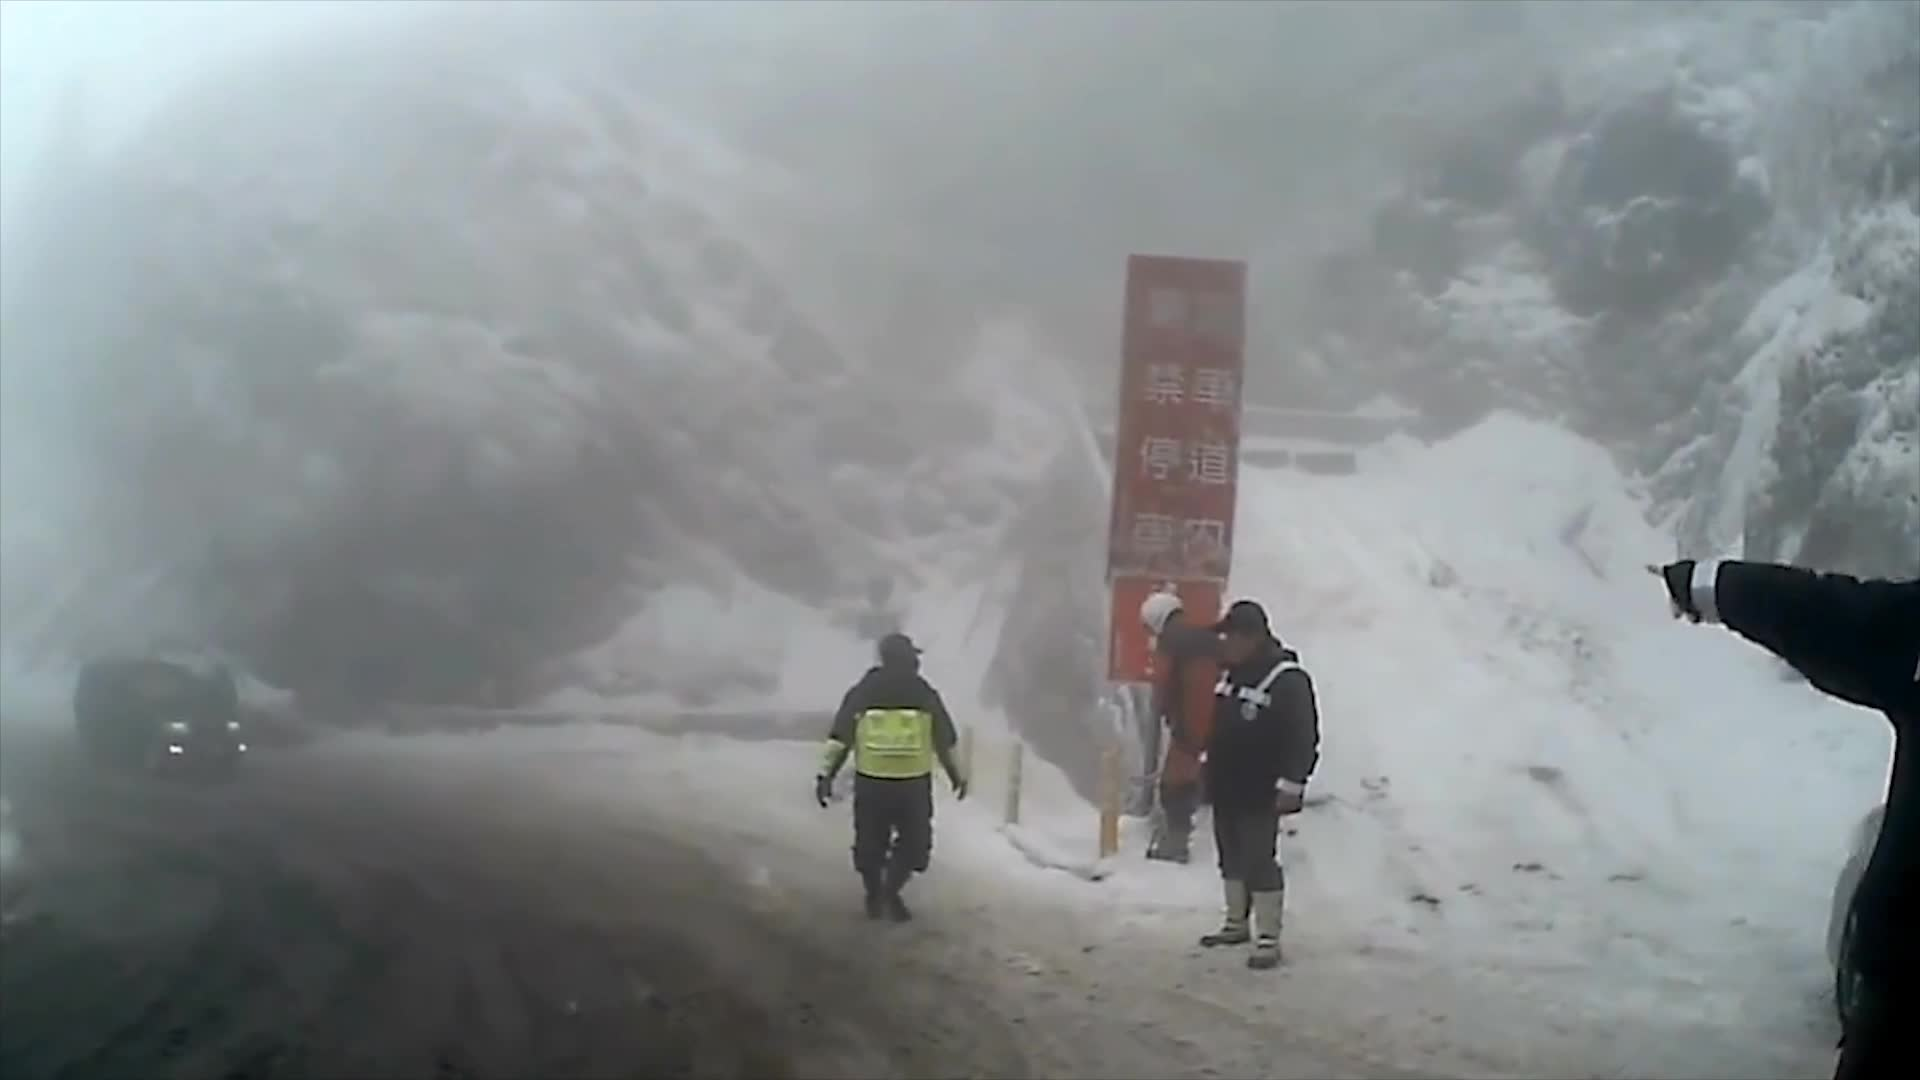pedestrian: (1575, 416, 1919, 1076), (1205, 596, 1323, 977), (818, 626, 968, 921)
vehicle: (72, 650, 247, 779)
